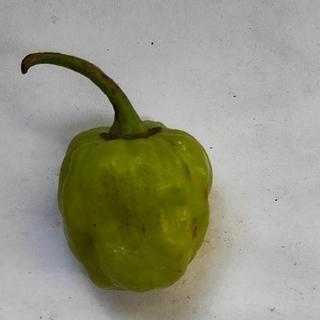Defect: (184, 215, 207, 247)
Fly-bites: (82, 233, 95, 251), (88, 219, 102, 233), (172, 264, 184, 278), (139, 222, 150, 235)
